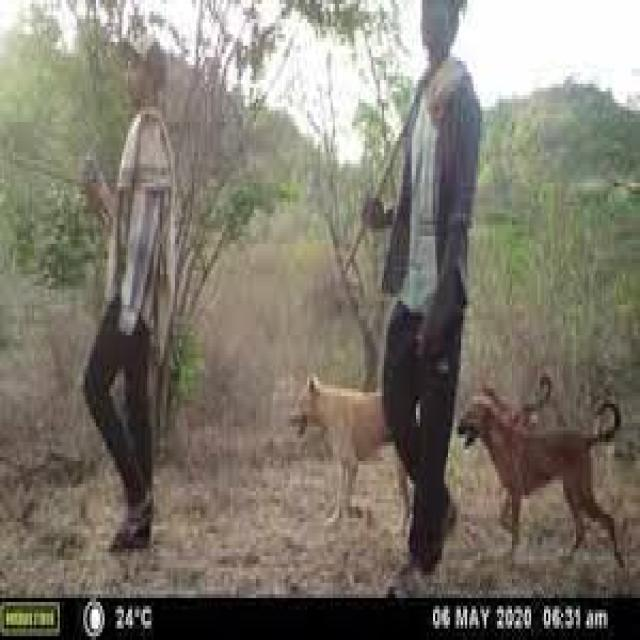dog: (463, 367, 592, 564), (273, 336, 361, 484)
poacher: (58, 13, 196, 537), (379, 0, 489, 532)
